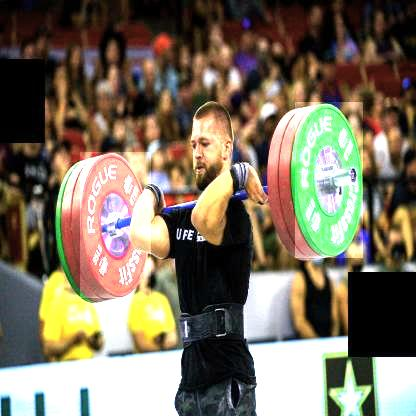barbell: (295, 103, 364, 258), (80, 153, 151, 299)
